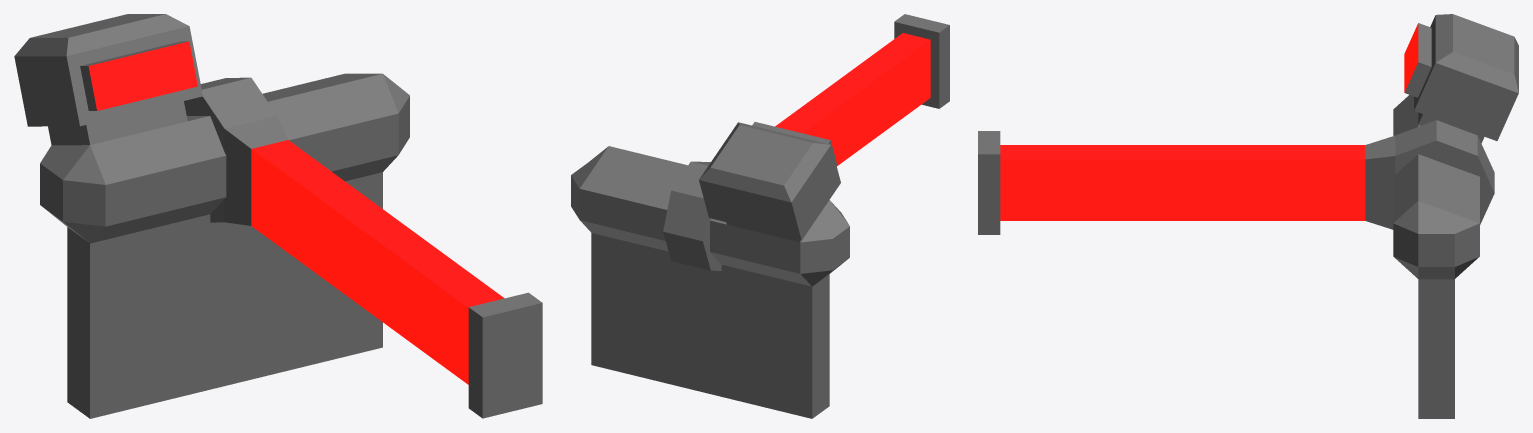
The model's file is boom_barrier.glb.
3 views of the same model, side by side, from view 1: azimuth 30°, elevation 25°; view 2: azimuth 150°, elevation 25°; view 3: azimuth 270°, elevation 25° (orthographic). The views are drawn at different scales.
Visible parts, largest first — view 1: Column, Bar; view 2: Column, Bar; view 3: Bar, Column.
Part boxes in pixels (x1,y1,x2,y2): Column: (14,14,409,418); Bar: (184,77,542,418); Column: (571,122,849,418); Bar: (663,14,949,270); Bar: (978,120,1494,234); Column: (1393,14,1518,418).
Size of the model in its own units: 1.13 by 1.13 by 1.91.
